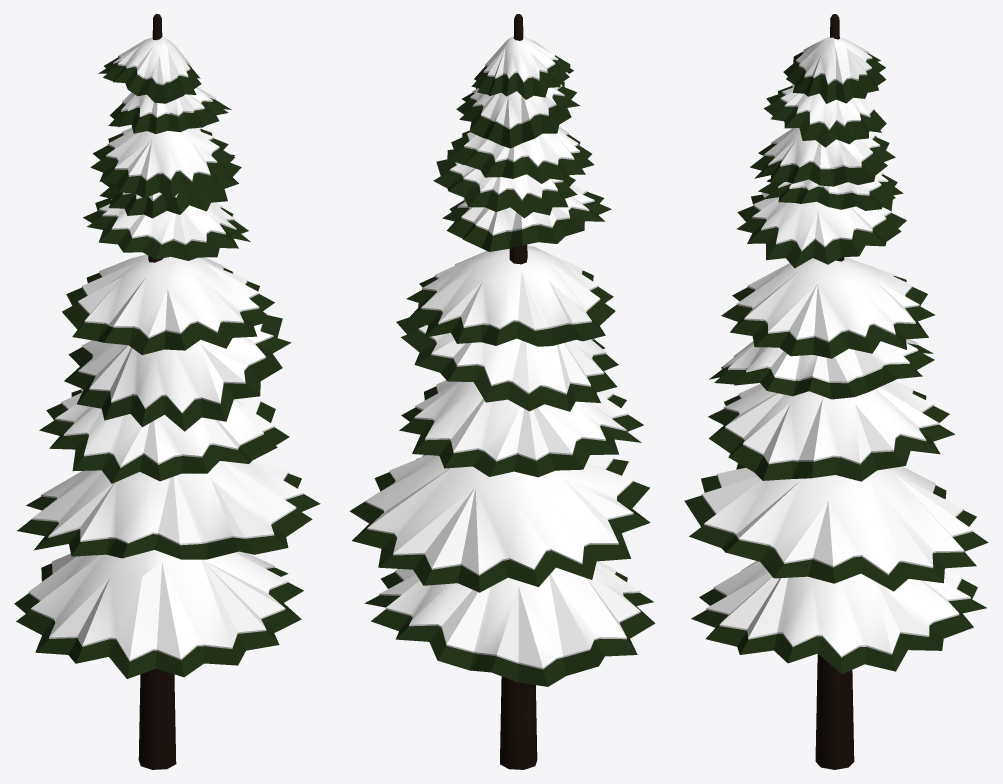
Rendered from s_tree_009.FBX.
3 renders of one model, left to right at view 1: azimuth 30°, elevation 25°; view 2: azimuth 150°, elevation 25°; view 3: azimuth 270°, elevation 25°, orthographic.
Visible parts, largest first — view 1: s_tree_leaves_009 (×2); view 2: s_tree_leaves_009 (×2); view 3: s_tree_leaves_009 (×2).
Part boxes in pixels (<box>): s_tree_leaves_009 (×2): <box>14,14,320,769</box>; s_tree_leaves_009 (×2): <box>349,14,655,769</box>; s_tree_leaves_009 (×2): <box>684,14,988,769</box>.
Size of the model in its own units: 1.58 by 4.26 by 1.57.
